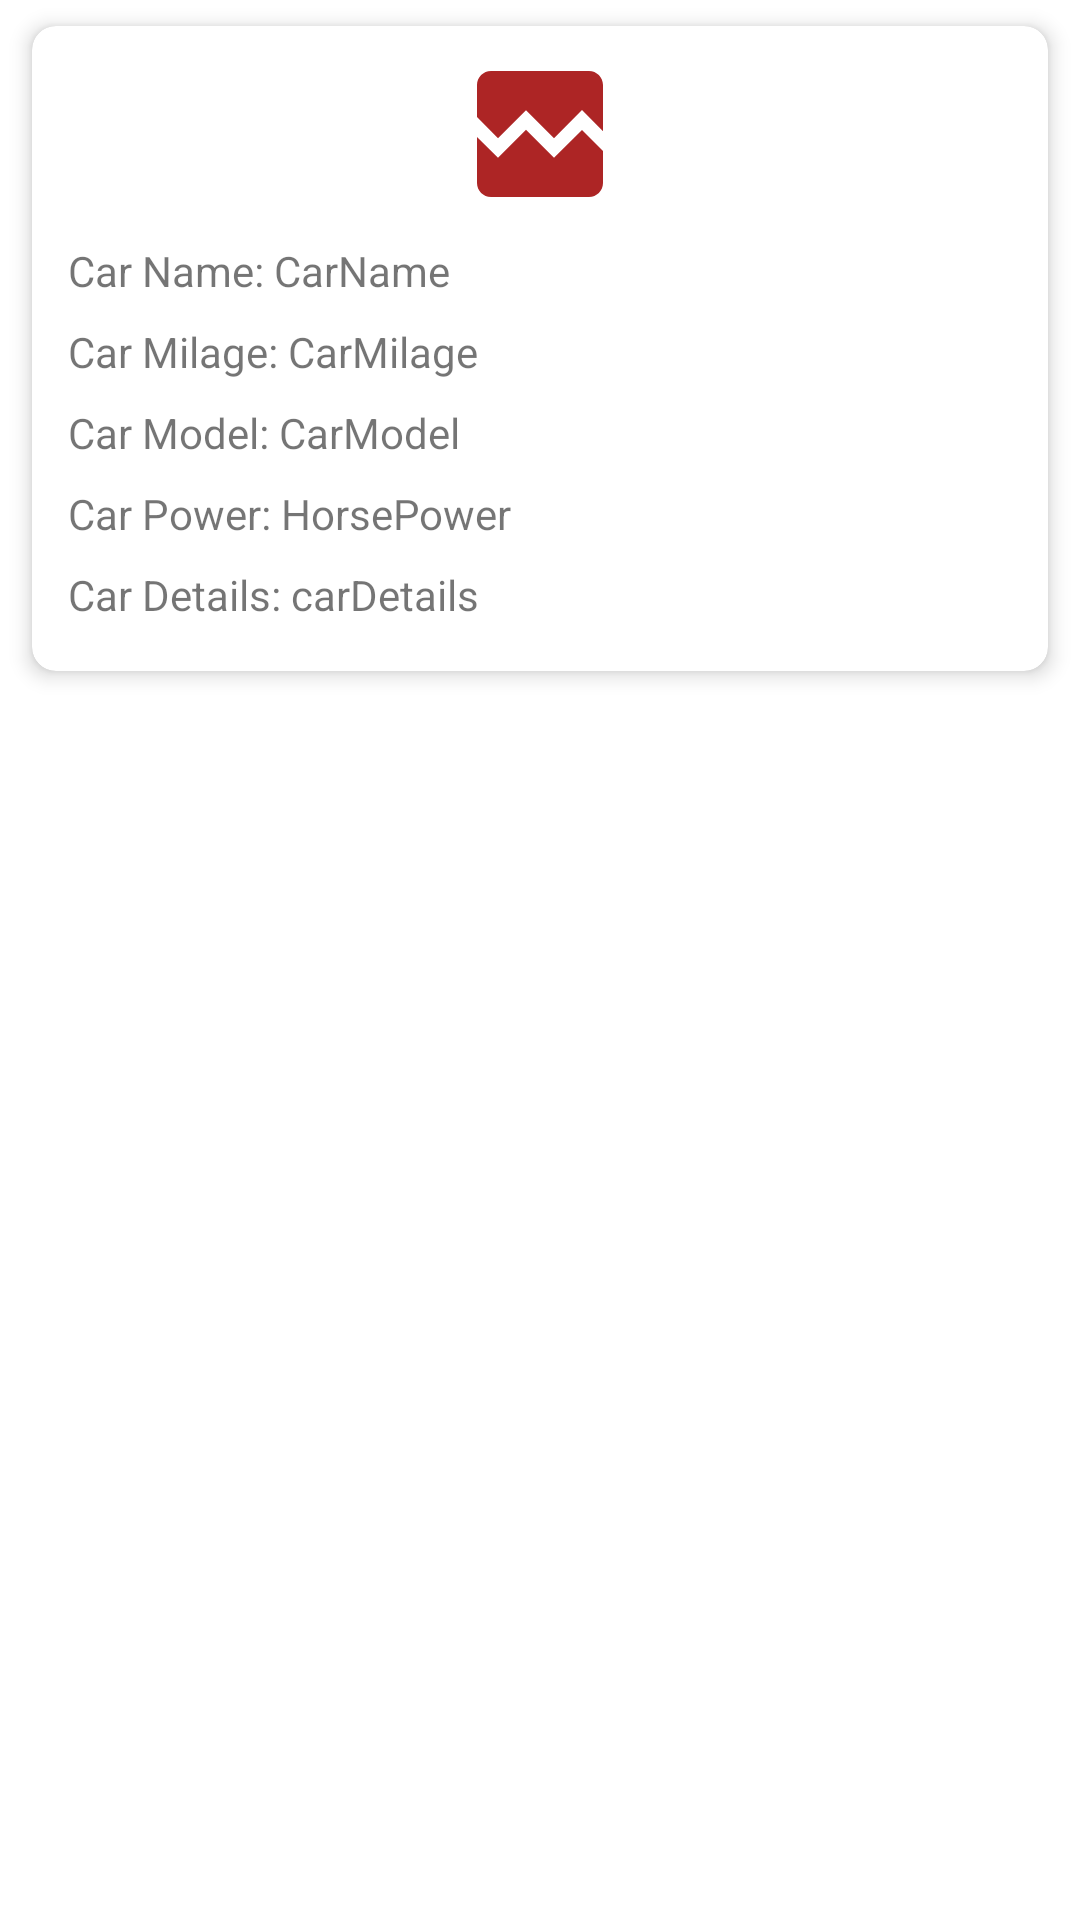

Screen size 1080*1920. Icon name, then its center in pixels as (x,y):
broken: (540,134)
